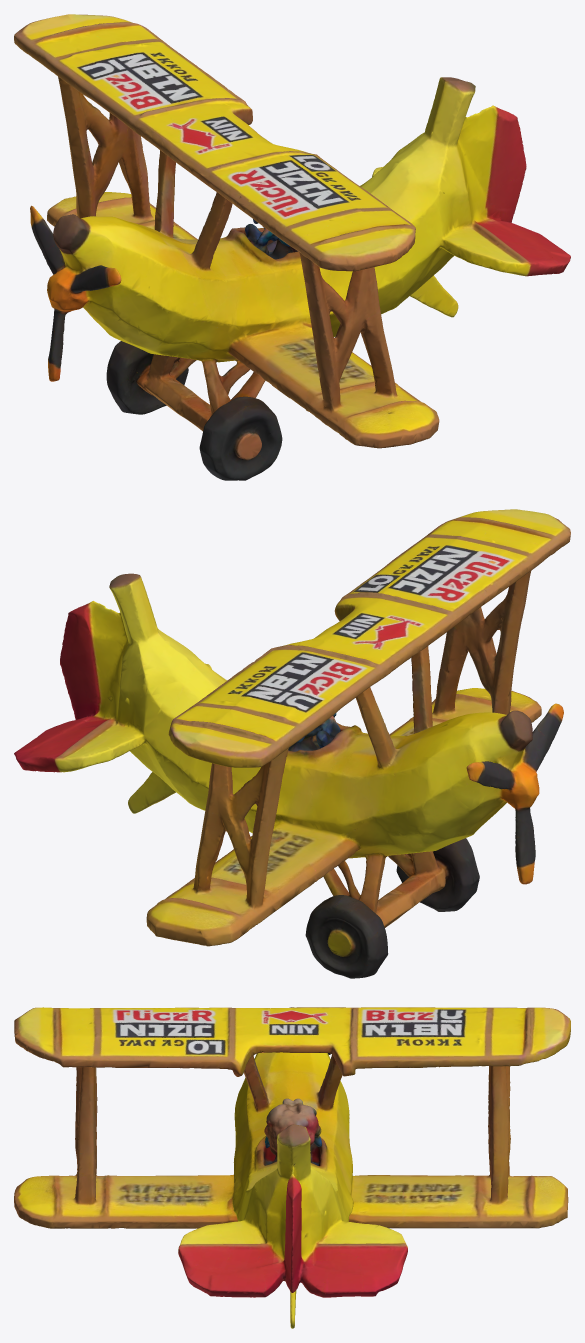
File: Meshy_AI_Banana_Bip_0402164037_texture.glb
3 renders of one model, top to bottom at view 1: azimuth 30°, elevation 25°; view 2: azimuth 150°, elevation 25°; view 3: azimuth 270°, elevation 25°, orthographic. The views are drawn at different scales.
Bounding box in the file's own units: 1.68 × 1.05 × 2.
Materials: 1 (1 with a texture image).
